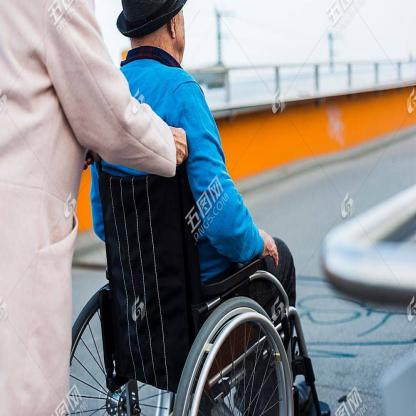wheelchair: (61, 0, 332, 415)
